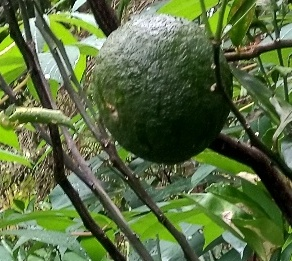Cam: (87, 14, 236, 167)
